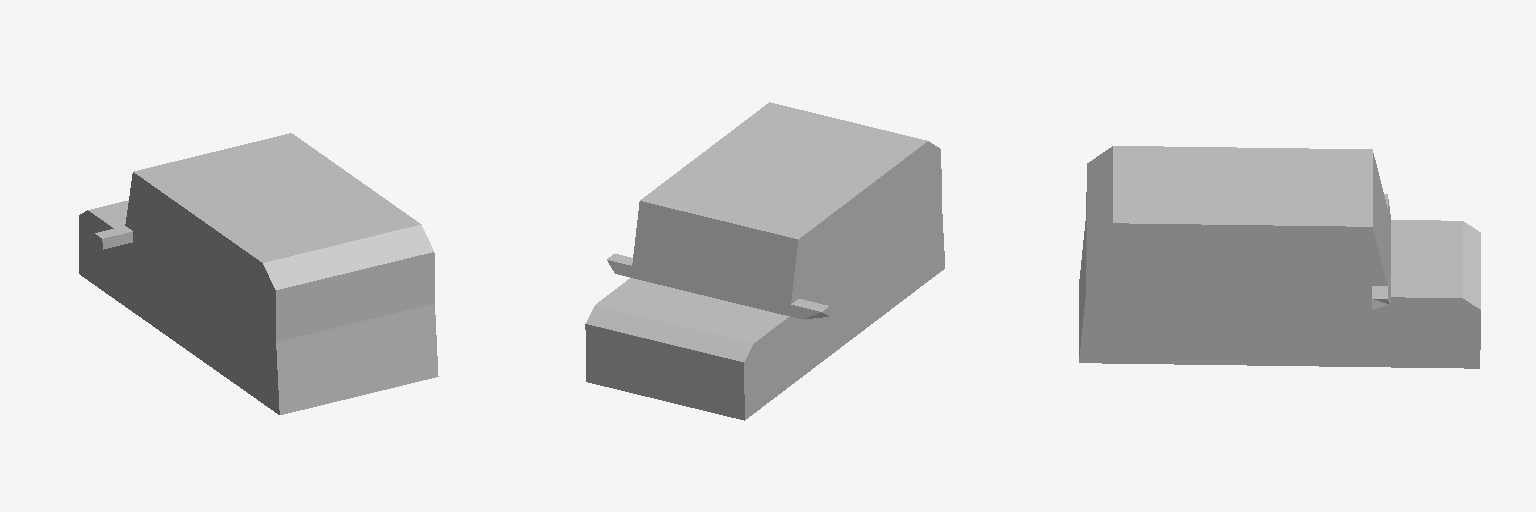
Rendered from van.obj.
The picture shows the model from 3 angles: view 1: azimuth 30°, elevation 25°; view 2: azimuth 150°, elevation 25°; view 3: azimuth 270°, elevation 25°; orthographic projection.
Visible parts, largest first — view 1: Cube; view 2: Cube; view 3: Cube.
Boxes of the visible parts, <box> form: Cube: <box>79,133,438,414</box>; Cube: <box>585,102,944,420</box>; Cube: <box>1079,146,1480,368</box>.
Bounding box in the file's own units: 3.69 × 2.38 × 5.97.